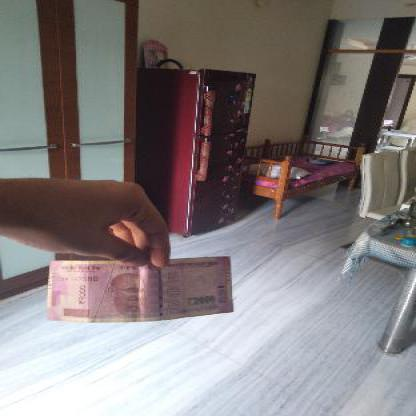New2000Front: (45, 258, 235, 320)
